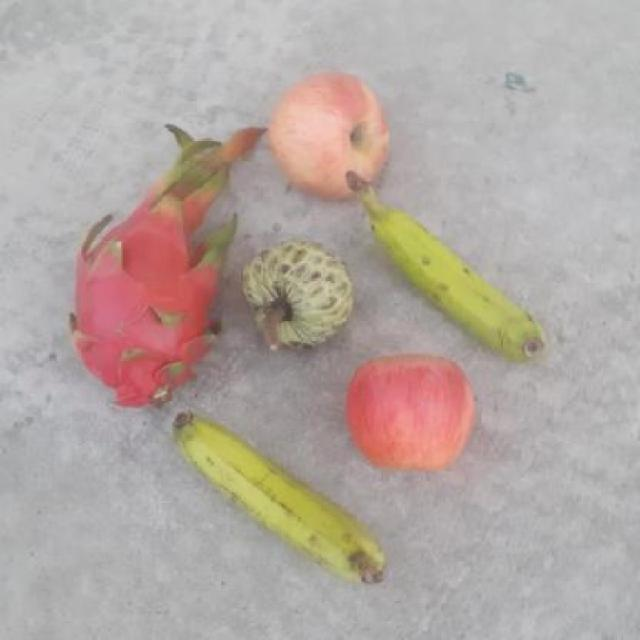apple: (265, 68, 392, 205), (342, 354, 480, 478)
banana: (340, 168, 548, 360), (174, 408, 386, 583)
dragon fruit: (61, 184, 224, 411)
sugar apple: (240, 237, 354, 357)
